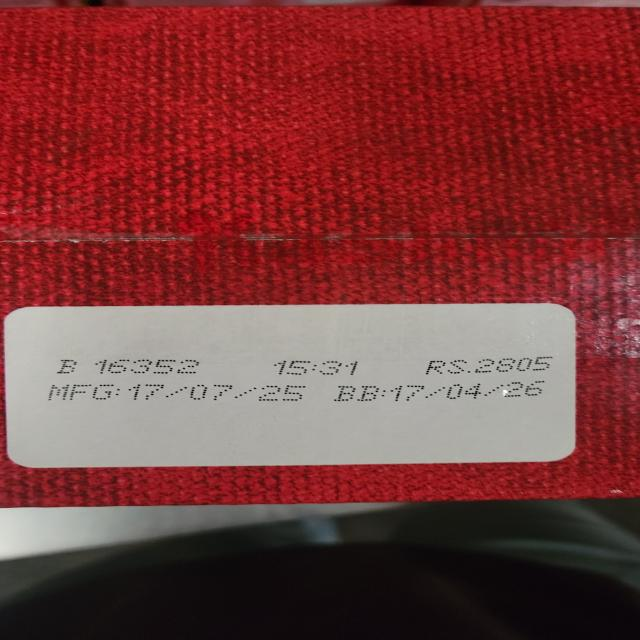BB: (329, 382, 562, 401)
Batch: (58, 355, 204, 378)
MFG: (47, 382, 315, 406)
RS: (418, 357, 561, 379)
TimeStamp: (272, 353, 371, 380)
